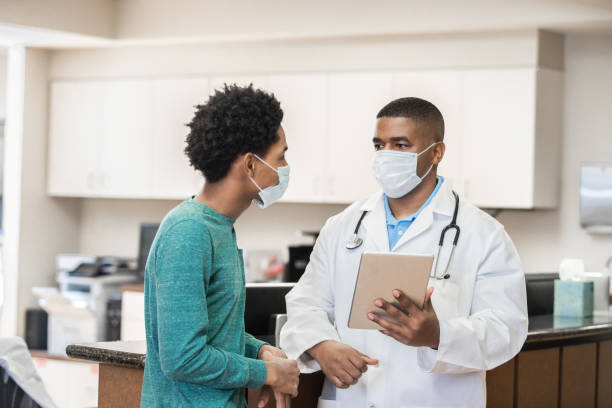with mask: (228, 115, 295, 211), (368, 106, 428, 202)
